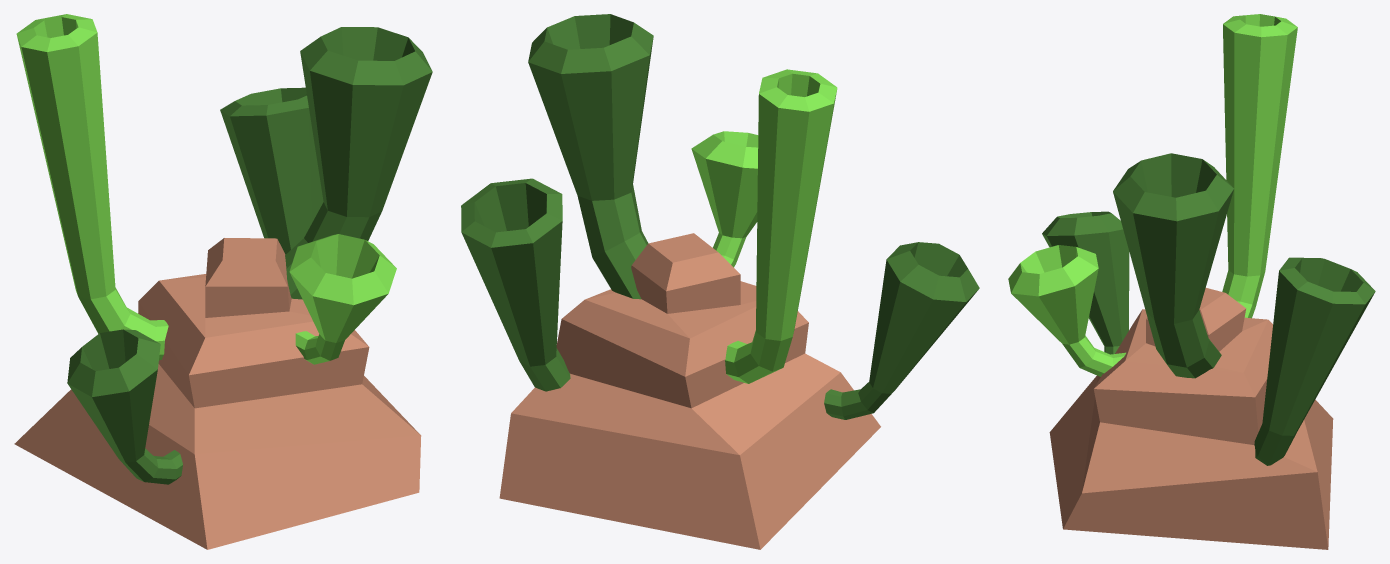
File: coral_2.fbx
3 renders of one model, left to right at view 1: azimuth 30°, elevation 25°; view 2: azimuth 150°, elevation 25°; view 3: azimuth 270°, elevation 25°, orthographic. The views are drawn at different scales.
Visible parts, largest first — view 1: Cube.001; view 2: Cube.001; view 3: Cube.001.
Part boxes in pixels (box(x1,y1,x2,y2)): Cube.001: box(14, 14, 432, 549); Cube.001: box(461, 14, 979, 549); Cube.001: box(1008, 14, 1375, 549).
Size of the model in its own units: 199 by 220 by 177.
